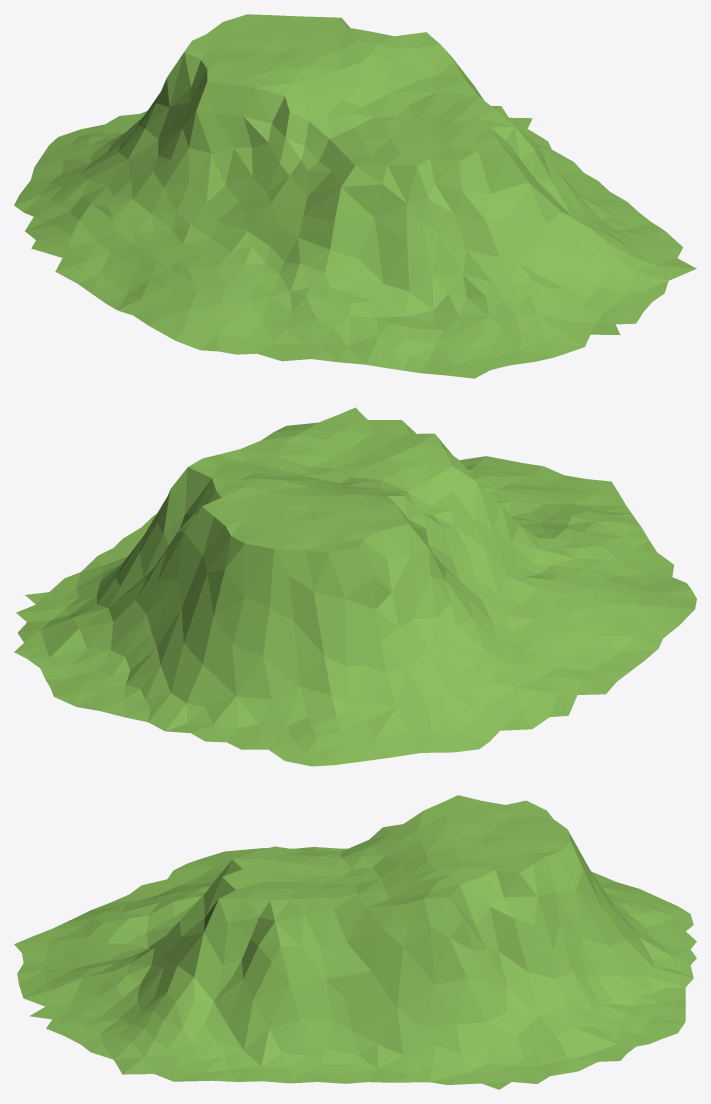
The model's file is MT_Mountain_L_b_22_LOD.fbx.
3 renders of one model, top to bottom at view 1: azimuth 30°, elevation 25°; view 2: azimuth 150°, elevation 25°; view 3: azimuth 270°, elevation 25°, orthographic. The views are drawn at different scales.
Parts seen in each view (by area): view 1: MT_Mountain_L_b_22_LOD0; view 2: MT_Mountain_L_b_22_LOD0; view 3: MT_Mountain_L_b_22_LOD0.
Part boxes in pixels (box(x1,y1,x2,y2)): MT_Mountain_L_b_22_LOD0: box(14, 14, 696, 378); MT_Mountain_L_b_22_LOD0: box(14, 407, 696, 766); MT_Mountain_L_b_22_LOD0: box(14, 795, 696, 1089).
Size of what is drawn, in the model's own units: 7031 by 1803 by 8359.
